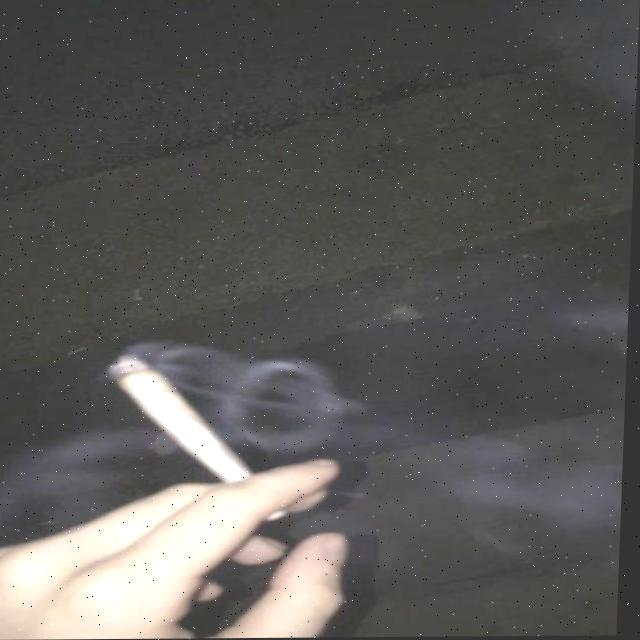cigarette: (106, 357, 255, 483)
